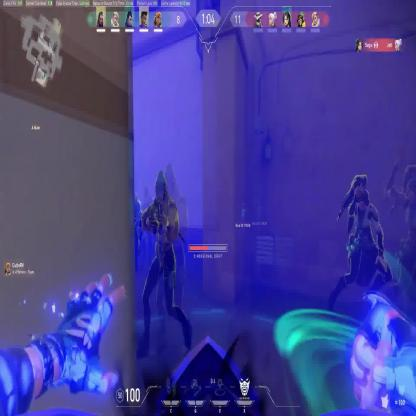enemy: (133, 170, 192, 357), (326, 173, 398, 315), (127, 190, 142, 275)
enemy_head: (155, 171, 167, 200), (356, 188, 370, 211)
